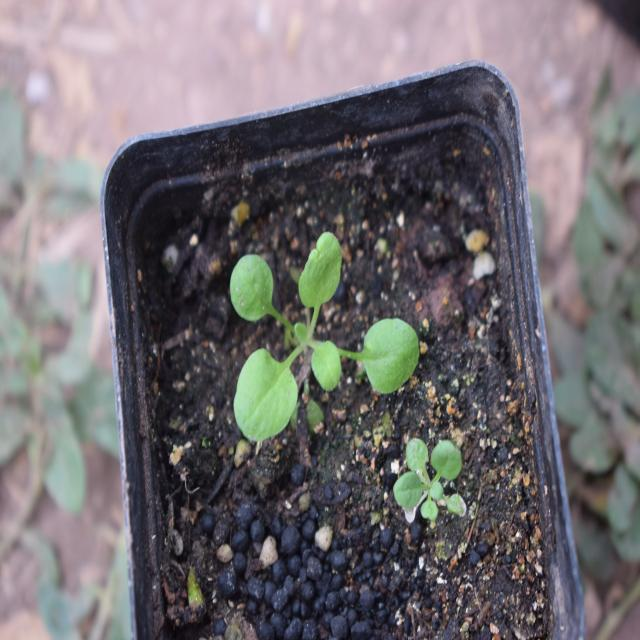Shepherd_Purse: (215, 221, 420, 455)
